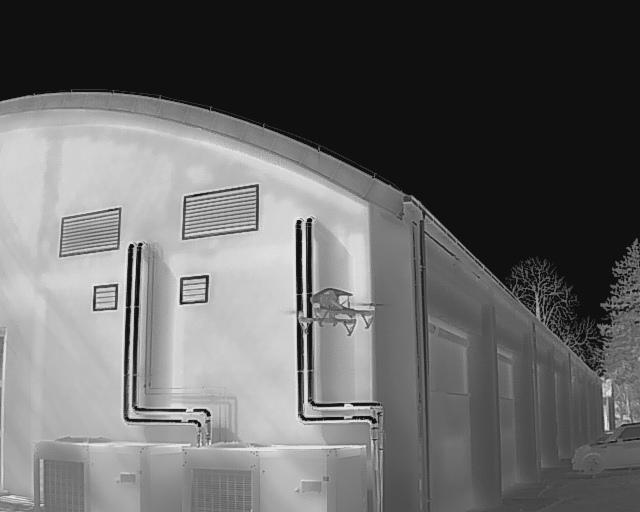drone: (276, 280, 386, 342)
